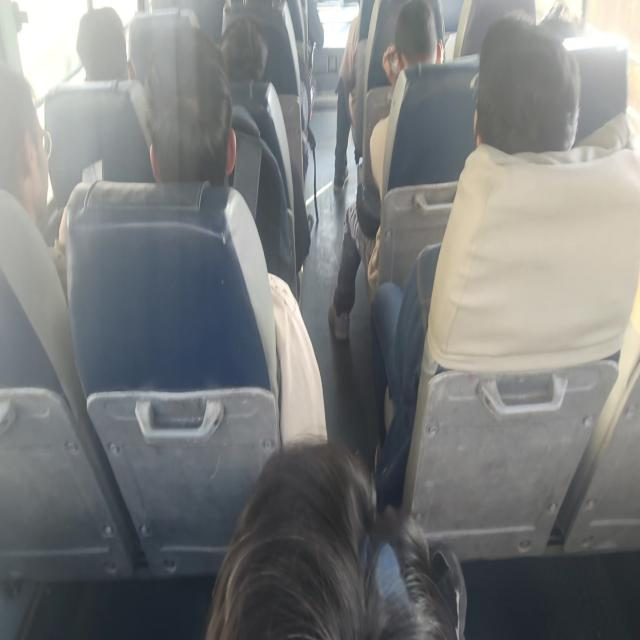person: (206, 429, 481, 640), (144, 41, 234, 200), (482, 8, 564, 172), (0, 2, 63, 207), (68, 0, 137, 84), (218, 27, 292, 92), (404, 8, 441, 82), (529, 0, 579, 41)
